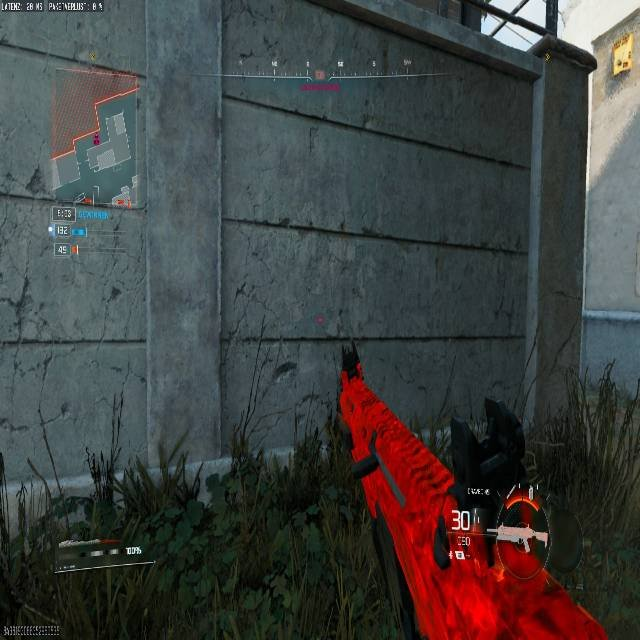head: (496, 500, 548, 577)
